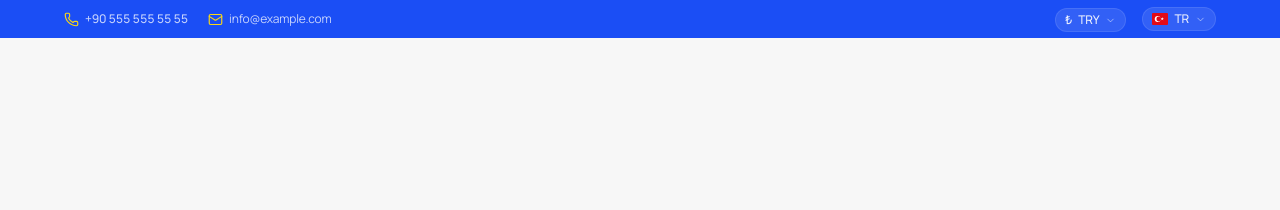
Test case: TopBar — Phase 10C dil değiştirici › 44) KUR dropdown'ı — her seçenek KENDİ sembolünü gösterir
Click the button "₺ TRY": (1091,20) [1055,8,1126,32]
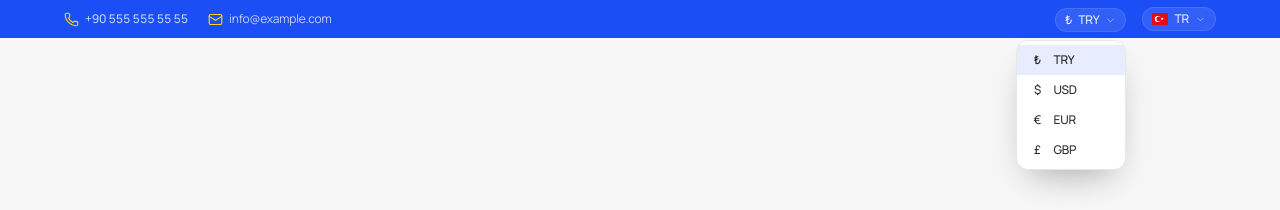
Expected: the list is shown, [1016,40,1126,170]
